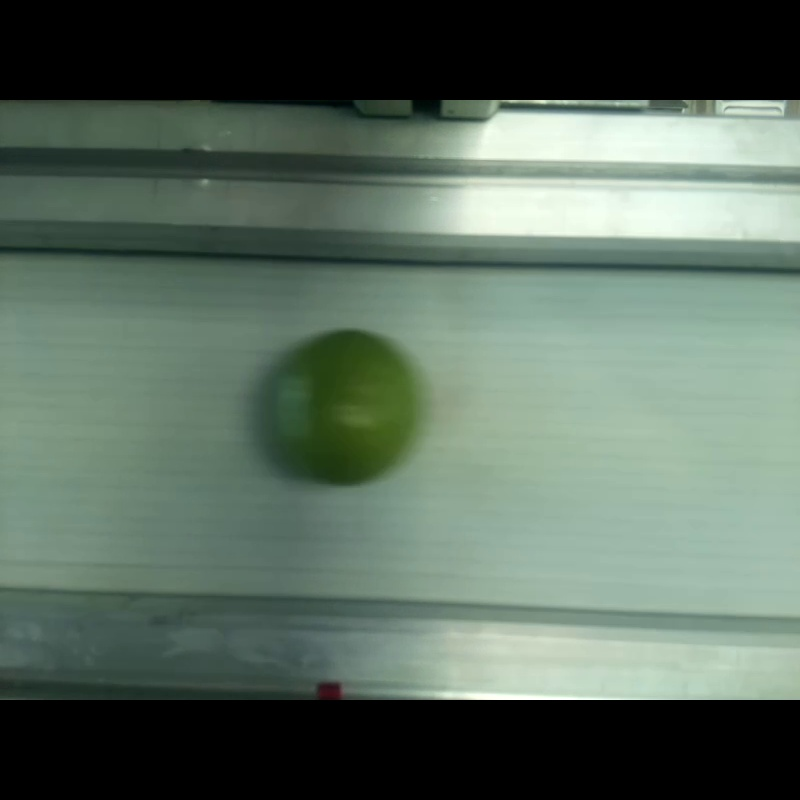lime: (273, 331, 414, 484)
